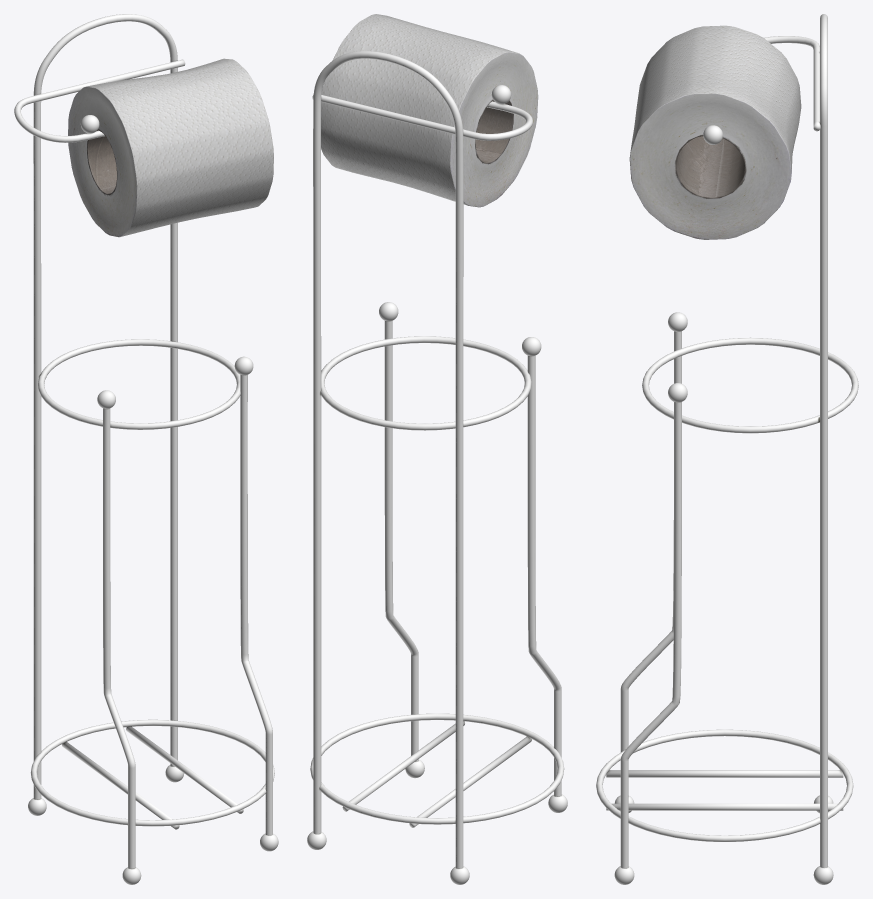
Rendered from tp holder.fbx.
3 views of the same model, side by side, from view 1: azimuth 30°, elevation 25°; view 2: azimuth 150°, elevation 25°; view 3: azimuth 270°, elevation 25° (orthographic). The views are drawn at different scales.
Visible parts, largest first — view 1: BezierCircle, Cylinder.003; view 2: BezierCircle, Cylinder.003; view 3: Cylinder.003, BezierCircle.
Boxes of the visible parts, x1,y1,x2,y2 form: BezierCircle: (14,14,278,884); Cylinder.003: (68,58,273,237); BezierCircle: (307,51,567,884); Cylinder.003: (321,14,538,207); Cylinder.003: (629,25,801,239); BezierCircle: (596,14,858,884).
Size of the model in its own units: 15.9 by 55.68 by 16.1.
Materials: 2 (2 with a texture image).
